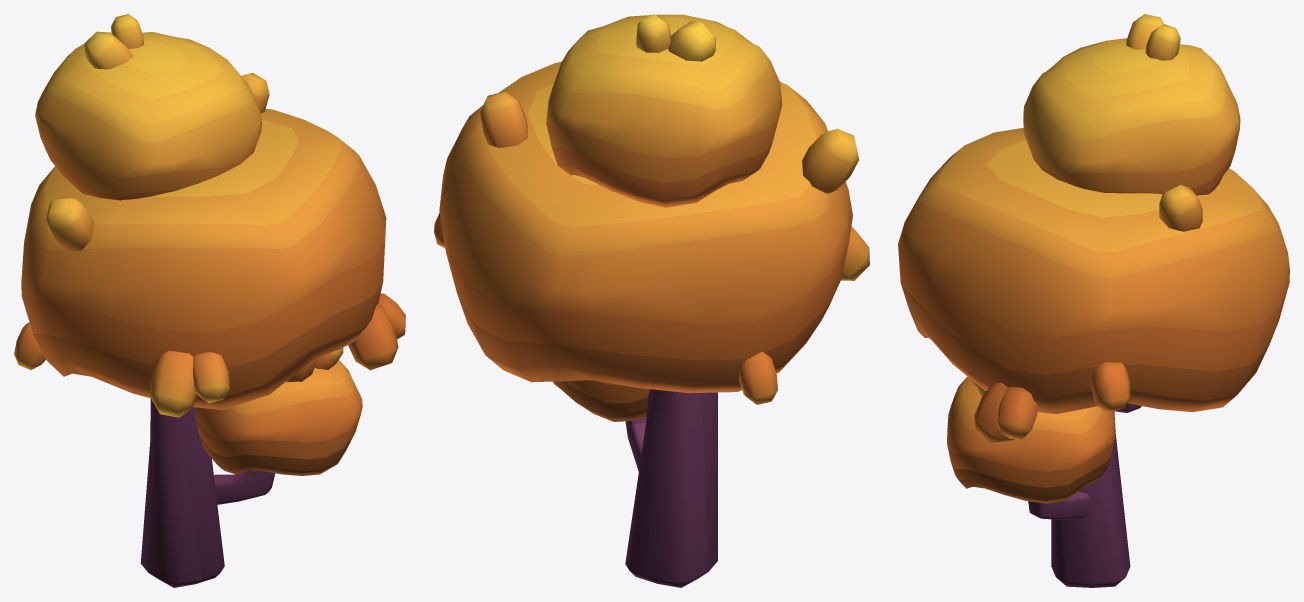
File: grassland_tree_col2_2.fbx
3 views of the same model, side by side, from view 1: azimuth 30°, elevation 25°; view 2: azimuth 150°, elevation 25°; view 3: azimuth 270°, elevation 25° (orthographic). The views are drawn at different scales.
Parts seen in each view (by area): view 1: grassland_tree_col2_2; view 2: grassland_tree_col2_2; view 3: grassland_tree_col2_2.
Boxes of the visible parts, bbox=[...] form: grassland_tree_col2_2: bbox=[14, 14, 405, 587]; grassland_tree_col2_2: bbox=[434, 14, 869, 587]; grassland_tree_col2_2: bbox=[898, 14, 1289, 587].
Bounding box in the file's own units: 428 × 620 × 407.
1 material, 1 textured.
